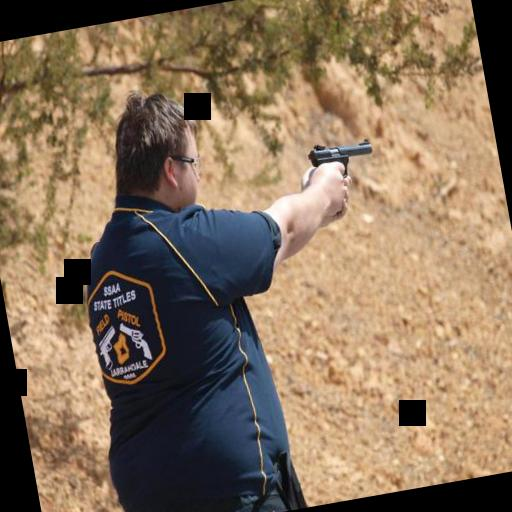Handgun: (302, 130, 378, 186)
